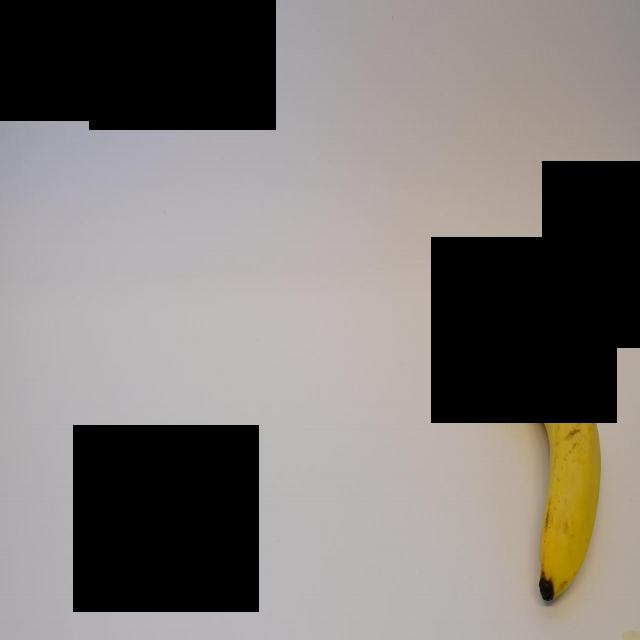banana: (479, 334, 603, 605)
